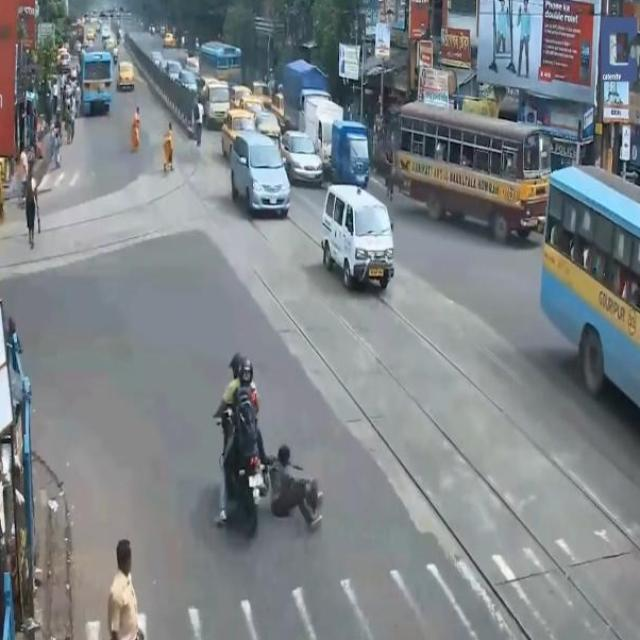accident: (204, 343, 341, 565)
